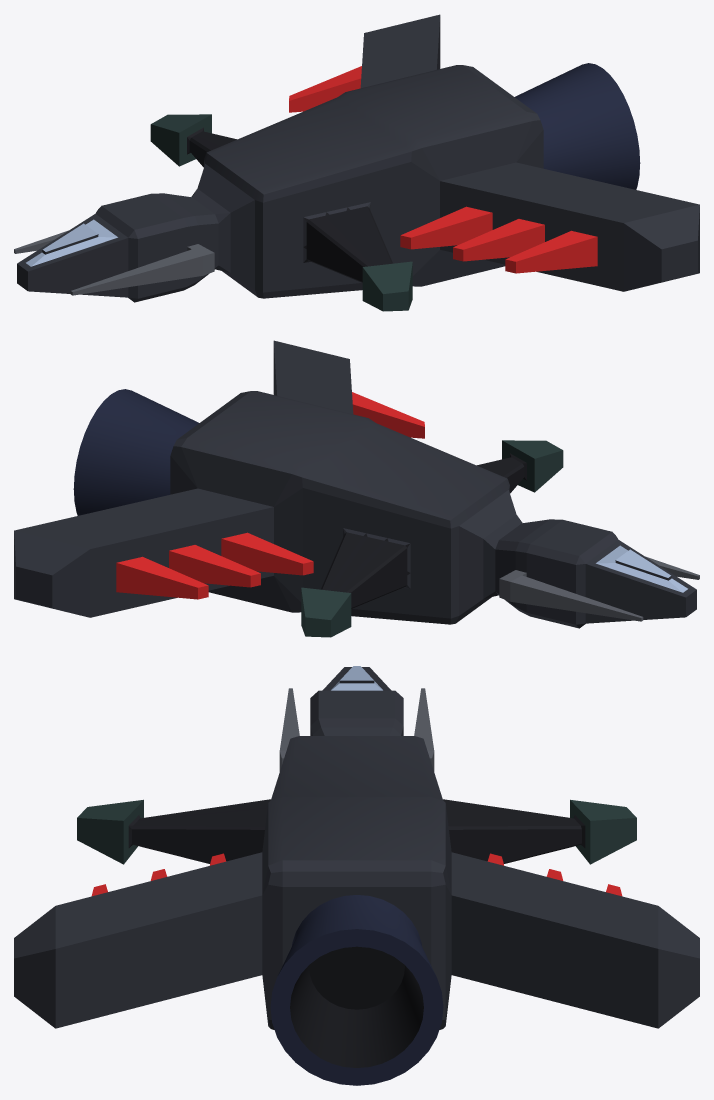
File: projectileShip.fbx
3 renders of one model, top to bottom at view 1: azimuth 30°, elevation 25°; view 2: azimuth 150°, elevation 25°; view 3: azimuth 270°, elevation 25°, orthographic. The views are drawn at different scales.
Visible parts, largest first — view 1: Plane; view 2: Plane; view 3: Plane.
Part boxes in pixels (x1,y1,x2,y2): Plane: (14, 14, 699, 311); Plane: (14, 340, 699, 637); Plane: (14, 666, 699, 1085).
Size of the model in its own units: 64.18 by 15.62 by 56.59.
Materials: 1 (1 with a texture image).
